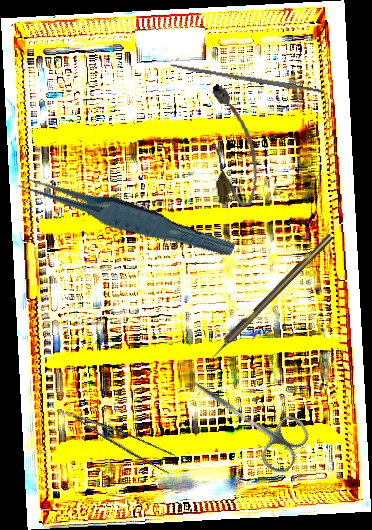Cannula: (204, 82, 262, 209)
Hook Surgical: (206, 233, 335, 361)
Iris Scissors: (174, 359, 316, 478)
Scalpel Handle: (169, 62, 326, 96)
Tissue Forceps: (15, 158, 236, 273), (64, 393, 181, 479)
